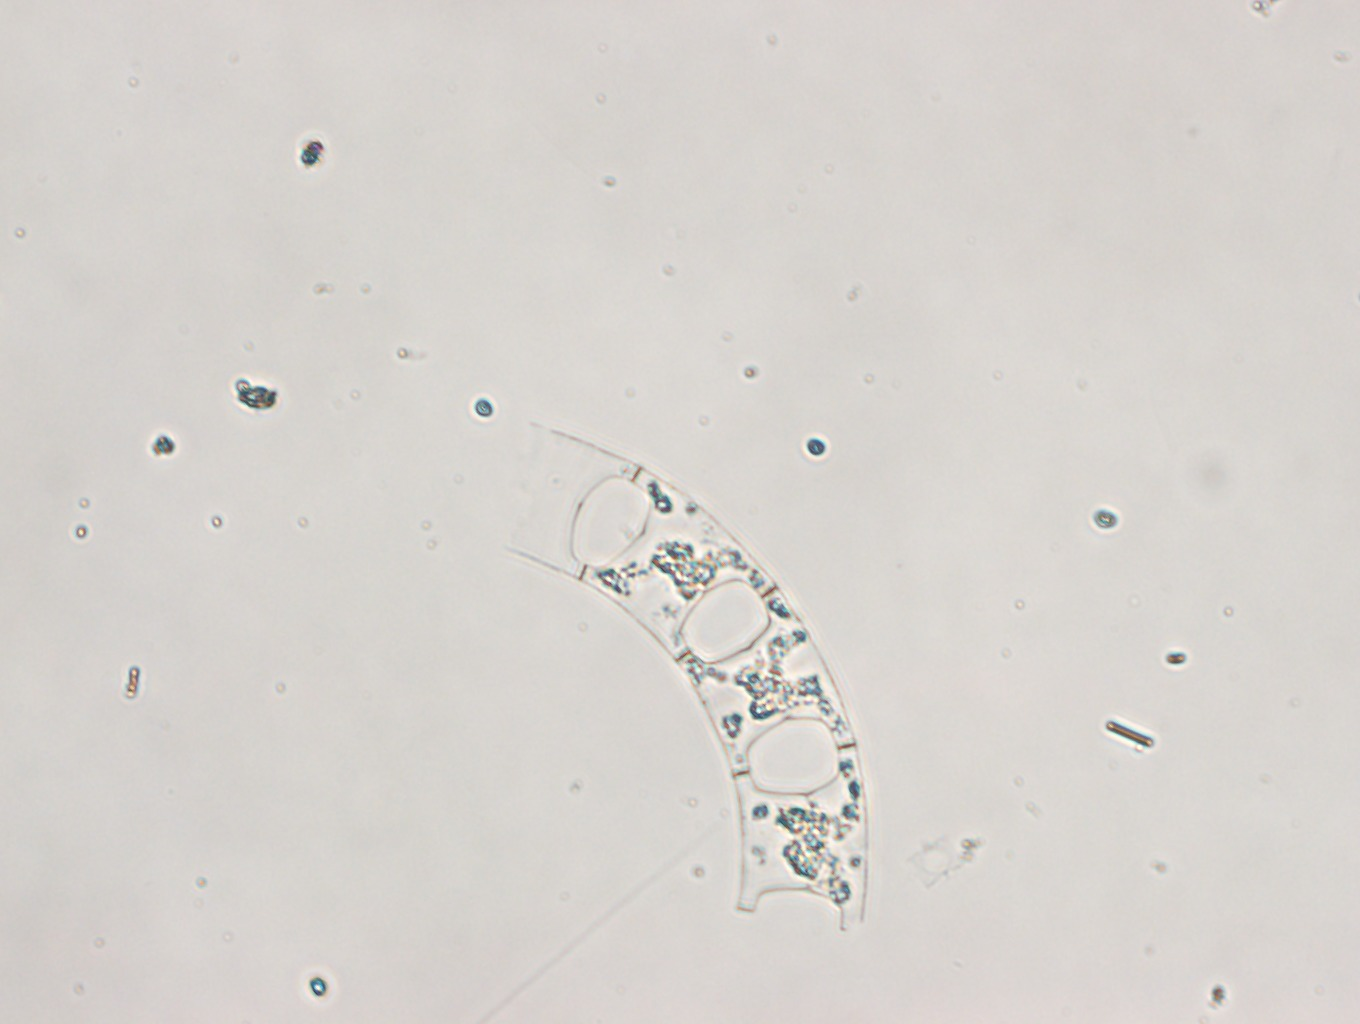eucampia: (504, 419, 865, 933)
